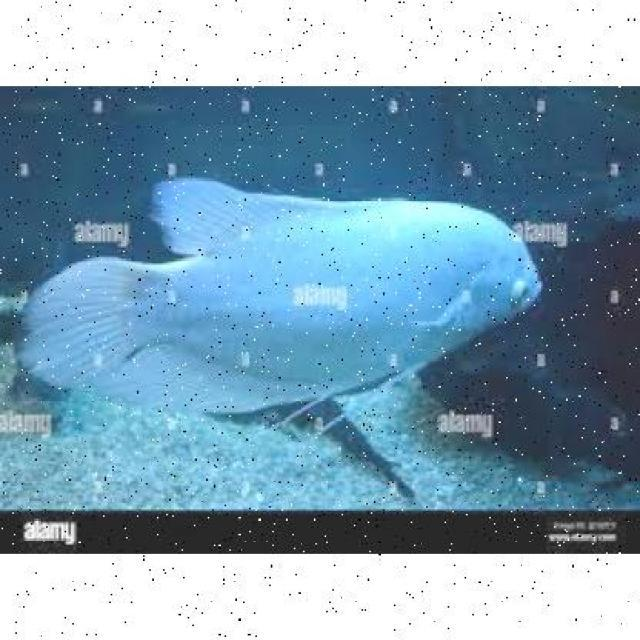gurame: (21, 180, 554, 420)
